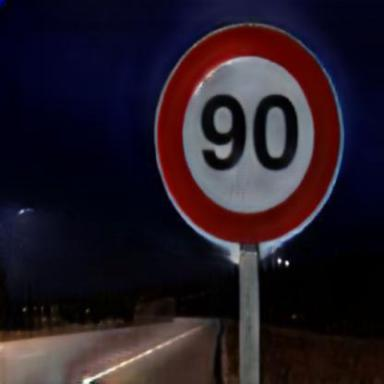Speed_limit_90: (157, 28, 342, 240)
